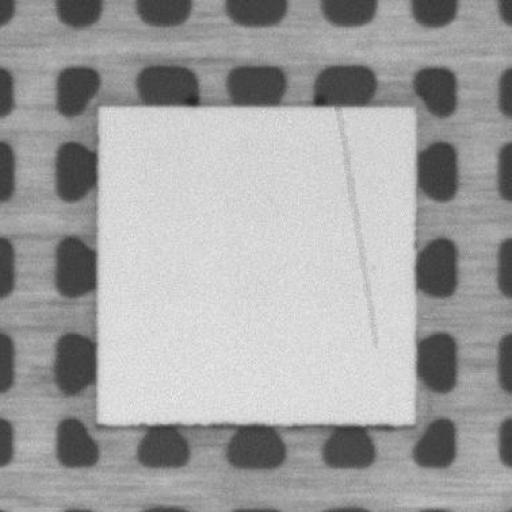DIE_CRACK: (336, 107, 374, 345)
